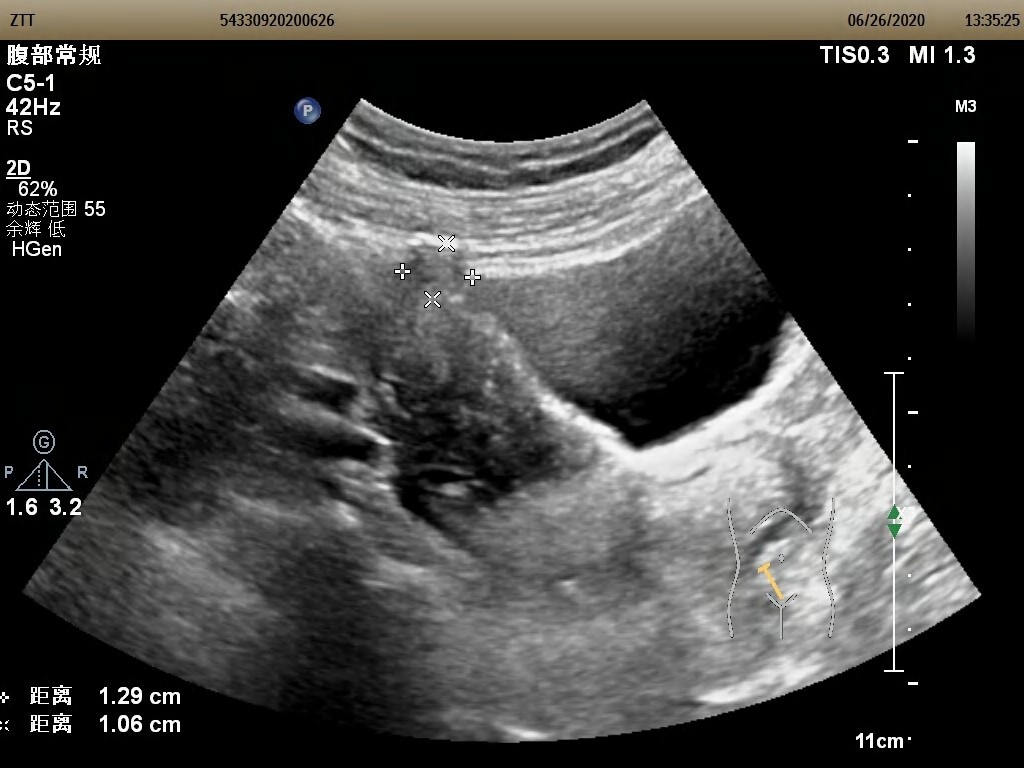肌瘤: (401, 244, 474, 299)
